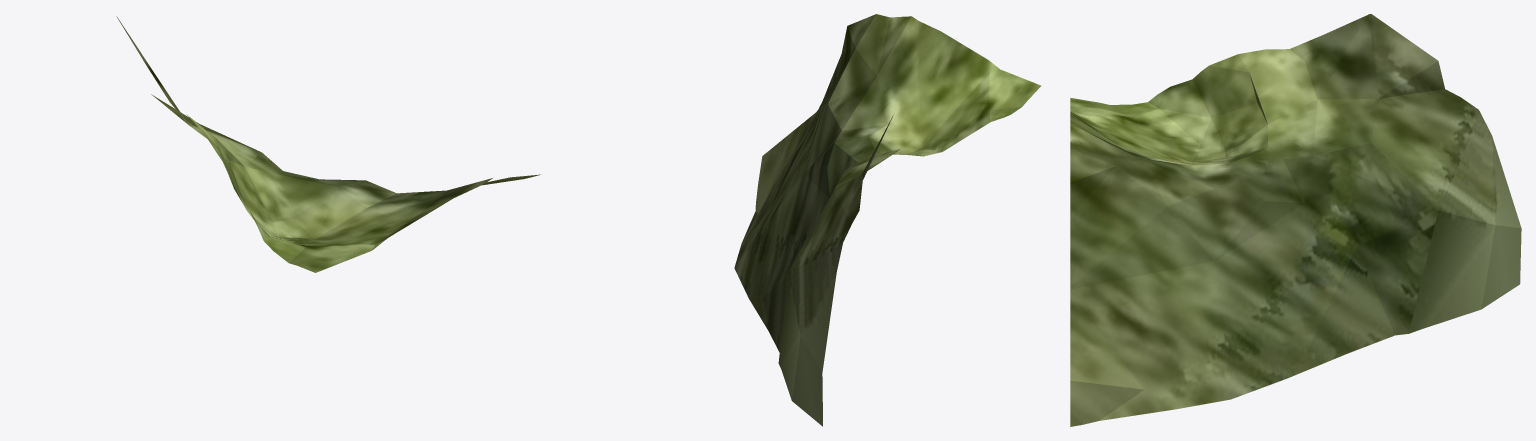
3 renders of one model, left to right at view 1: azimuth 30°, elevation 25°; view 2: azimuth 150°, elevation 25°; view 3: azimuth 270°, elevation 25°, orthographic. The views are drawn at different scales.
Size of the model in its own units: 1.27 by 1.13 by 1.7.
1 material, 1 textured.
